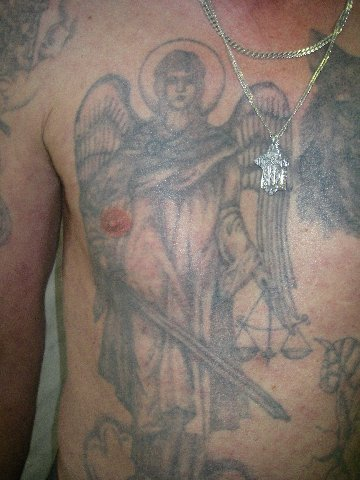tatu1_angel: (55, 40, 316, 403)
